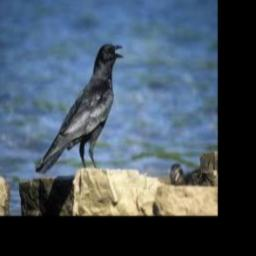Crow: (35, 44, 123, 175)
